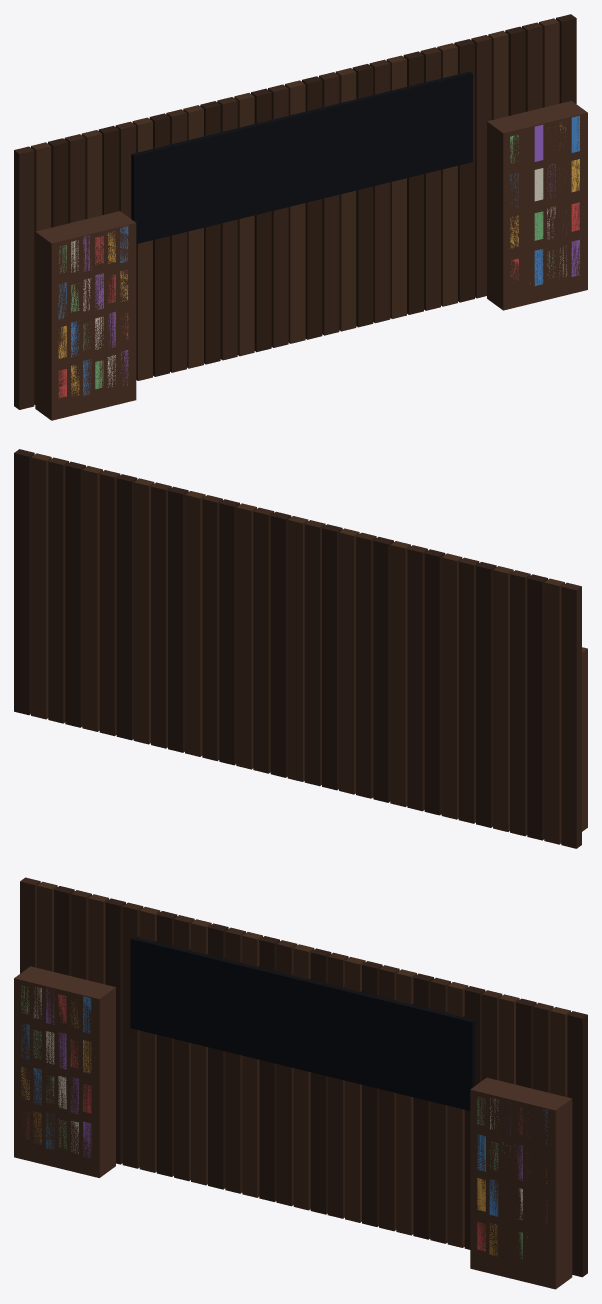
The model's file is pod_wall.glb.
The picture shows the model from 3 angles, top to bottom: view 1: azimuth 30°, elevation 25°; view 2: azimuth 150°, elevation 25°; view 3: azimuth 330°, elevation 25°; orthographic projection.
Visible parts, largest first — view 1: sign_board, shelf_body.001, shelf_body.002, slat, slat.027, slat.026, slat.020, slat.015, slat.017, slat.012, slat.013, slat.014 (+24 smaller); view 2: slat, slat.025, slat.015, slat.007, slat.008, slat.003, slat.017, slat.018, slat.027, slat.029, slat.012, slat.020 (+22 smaller); view 3: sign_board, shelf_body.002, shelf_body.001, slat.032, slat.006, slat.016, slat.017, slat.024, slat.007, slat.021, slat.012, slat.018 (+24 smaller).
Part boxes in pixels (<box>): sign_board: <box>131,71,472,243</box>; shelf_body.001: <box>35,211,136,420</box>; shelf_body.002: <box>487,101,587,310</box>; slat: <box>14,146,34,409</box>; slat.027: <box>471,35,491,298</box>; slat.026: <box>454,39,474,302</box>; slat.020: <box>352,64,373,327</box>; slat.015: <box>268,84,288,347</box>; slat.017: <box>302,76,322,339</box>; slat.012: <box>217,97,237,360</box>; slat.013: <box>234,93,254,356</box>; slat.014: <box>251,88,271,352</box>; slat: <box>561,582,581,848</box>; slat.025: <box>133,478,154,744</box>; slat.015: <box>304,520,325,786</box>; slat.007: <box>441,553,462,819</box>; slat.008: <box>424,549,445,815</box>; slat.003: <box>510,570,530,836</box>; slat.017: <box>270,511,291,777</box>; slat.018: <box>253,507,274,773</box>; slat.027: <box>99,470,120,736</box>; slat.029: <box>65,461,85,727</box>; slat.012: <box>356,532,376,798</box>; slat.020: <box>219,499,239,765</box>; sign_board: <box>130,937,474,1110</box>; shelf_body.002: <box>470,1077,572,1289</box>; shelf_body.001: <box>14,966,115,1177</box>; slat.032: <box>567,1011,587,1277</box>; slat.006: <box>122,902,143,1168</box>; slat.016: <box>293,944,314,1210</box>; slat.017: <box>310,948,331,1214</box>; slat.024: <box>430,977,450,1243</box>; slat.007: <box>139,906,160,1172</box>; slat.021: <box>379,965,399,1231</box>; slat.012: <box>225,927,245,1193</box>; slat.018: <box>327,952,348,1218</box>.
Bounding box in the file's own units: 5.92 × 2.6 × 0.45.
